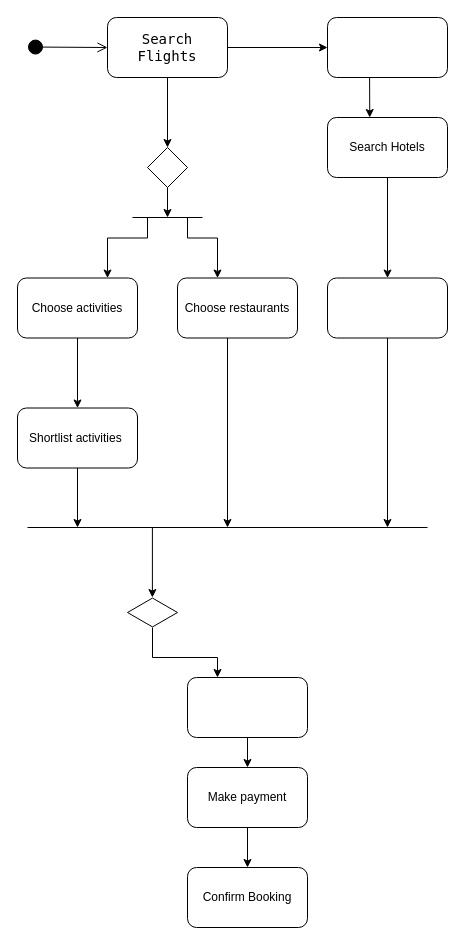
This 465x945 diagram has some shape labels left out. The centre of each missing label's shape, as x and y in pixels:
Review trip summary: pixel 247 707
Select flight: pixel 387 47
Select Hotel Room: pixel 387 307
